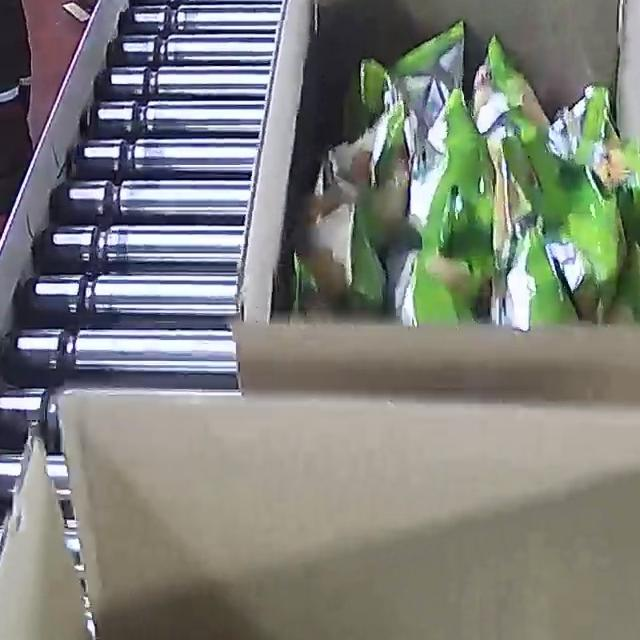yogurt: (283, 17, 640, 330)
